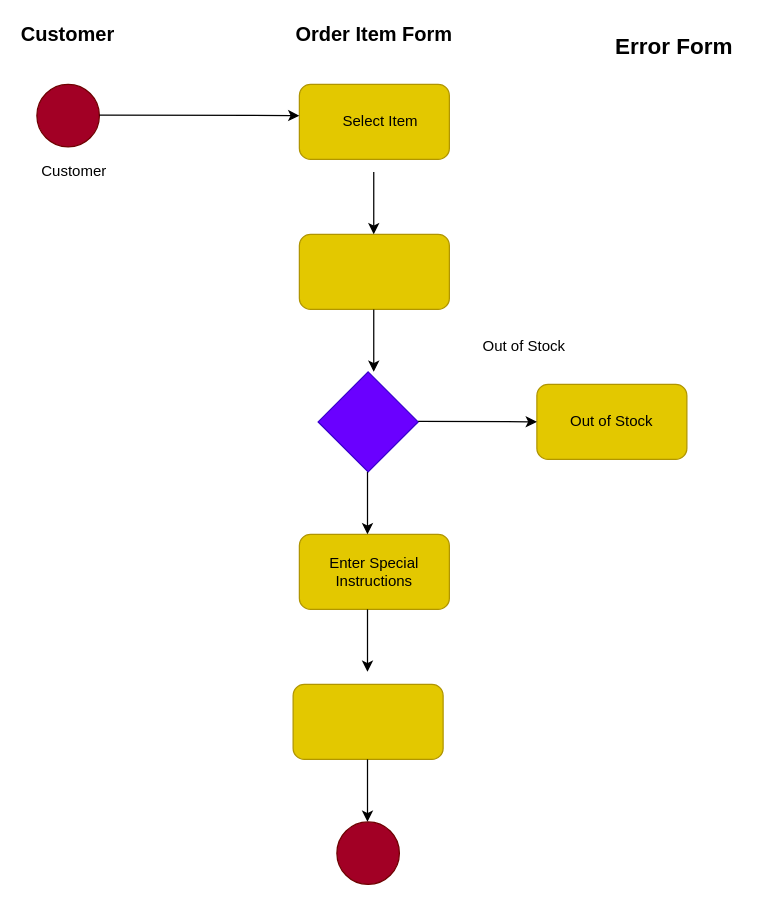
Image size: 784x906. Some labels were removed from this diagram. Each missing label, with the centre of its shape:
Calculate Total Item: (x=367, y=721)
Select Quantity: (x=373, y=271)
